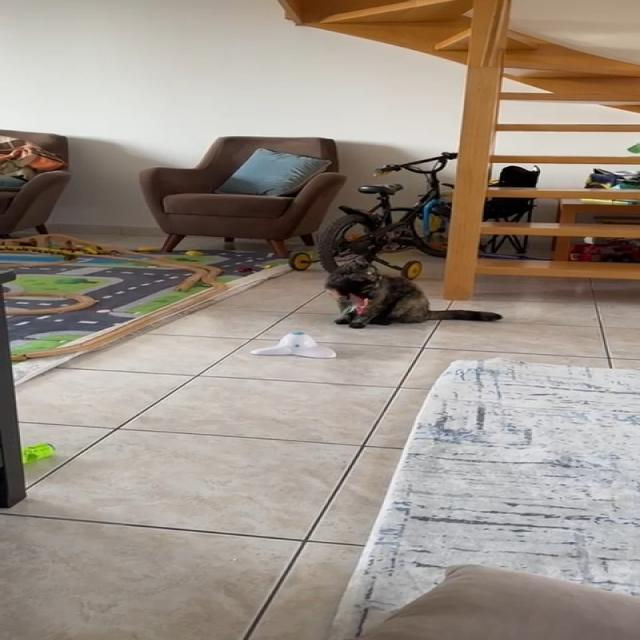authorized: (322, 256, 502, 328)
